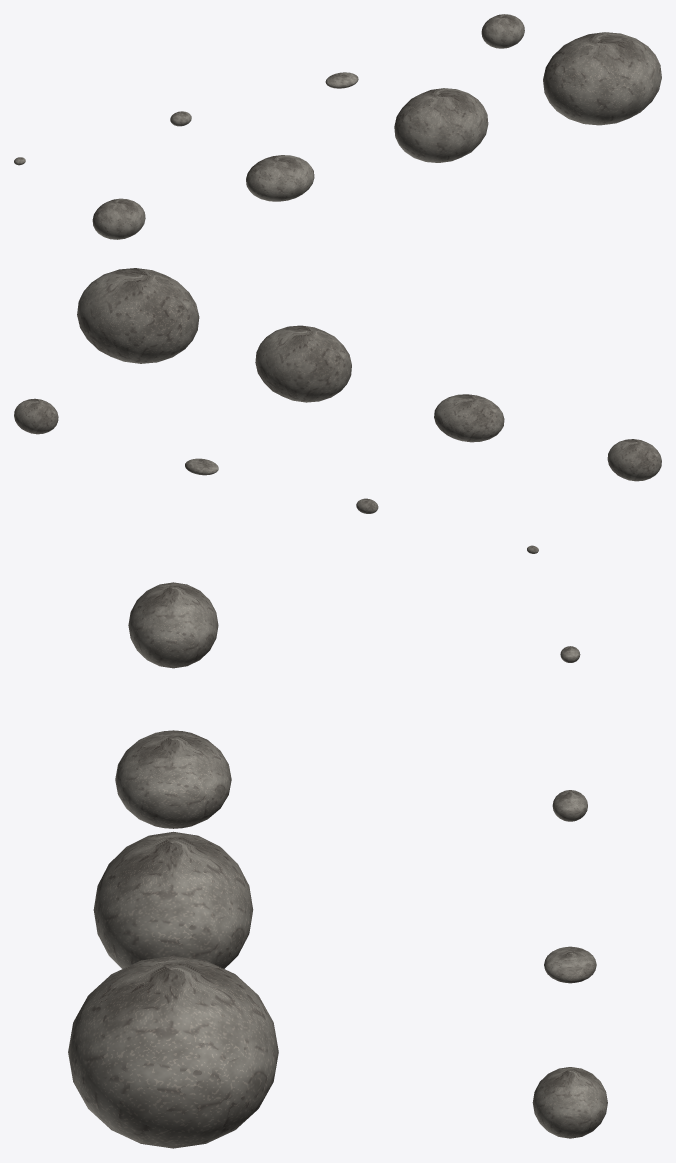
Rendered from PZ_Rock_Boulder_Collision_Proxies.glb.
3 renders of one model, top to bottom at view 1: azimuth 30°, elevation 25°; view 2: azimuth 150°, elevation 25°; view 3: azimuth 270°, elevation 25°, orthographic. The views are drawn at different scales.
Parts seen in each view (by area): view 1: COLLISION_UCX_R08_Massive_Moss_Boulder, COLLISION_UCX_R07_Fractured_Outcrop, COLLISION_UCX_R06_Layered_Shale_Boulder, COLLISION_UCX_R05_Rounded_River_Boulder, COLLISION_UCX_R04_Granite_Rock, COLLISION_UCX_R03_Low_Sediment_Slab; view 2: COLLISION_UCX_R08_Massive_Moss_Boulder, COLLISION_UCX_R07_Fractured_Outcrop, COLLISION_UCX_R06_Layered_Shale_Boulder, COLLISION_UCX_R05_Rounded_River_Boulder, COLLISION_UCX_R04_Granite_Rock, COLLISION_UCX_R03_Low_Sediment_Slab; view 3: COLLISION_UCX_R08_Massive_Moss_Boulder, COLLISION_UCX_R07_Fractured_Outcrop, COLLISION_UCX_R06_Layered_Shale_Boulder, COLLISION_UCX_R05_Rounded_River_Boulder, COLLISION_UCX_R04_Granite_Rock, COLLISION_UCX_R03_Low_Sediment_Slab, COLLISION_UCX_R02_Angular_Fieldstone.
Part boxes in pixels (bbox=[...]): COLLISION_UCX_R08_Massive_Moss_Boulder: bbox=[543, 32, 661, 125]; COLLISION_UCX_R07_Fractured_Outcrop: bbox=[394, 88, 488, 162]; COLLISION_UCX_R06_Layered_Shale_Boulder: bbox=[246, 155, 314, 201]; COLLISION_UCX_R05_Rounded_River_Boulder: bbox=[92, 198, 145, 239]; COLLISION_UCX_R04_Granite_Rock: bbox=[481, 14, 524, 48]; COLLISION_UCX_R03_Low_Sediment_Slab: bbox=[325, 72, 358, 88]; COLLISION_UCX_R08_Massive_Moss_Boulder: bbox=[77, 268, 199, 363]; COLLISION_UCX_R07_Fractured_Outcrop: bbox=[255, 325, 351, 402]; COLLISION_UCX_R06_Layered_Shale_Boulder: bbox=[434, 394, 504, 442]; COLLISION_UCX_R05_Rounded_River_Boulder: bbox=[607, 439, 661, 481]; COLLISION_UCX_R04_Granite_Rock: bbox=[14, 398, 58, 434]; COLLISION_UCX_R03_Low_Sediment_Slab: bbox=[185, 458, 218, 475]; COLLISION_UCX_R08_Massive_Moss_Boulder: bbox=[68, 955, 278, 1148]; COLLISION_UCX_R07_Fractured_Outcrop: bbox=[93, 831, 253, 968]; COLLISION_UCX_R06_Layered_Shale_Boulder: bbox=[115, 730, 231, 828]; COLLISION_UCX_R05_Rounded_River_Boulder: bbox=[128, 582, 218, 668]; COLLISION_UCX_R04_Granite_Rock: bbox=[532, 1067, 607, 1138]; COLLISION_UCX_R03_Low_Sediment_Slab: bbox=[544, 946, 596, 983]; COLLISION_UCX_R02_Angular_Fieldstone: bbox=[552, 790, 587, 821].
Size of the model in its own units: 15.68 by 2.16 by 6.53.
Materials: 1 (1 with a texture image).
